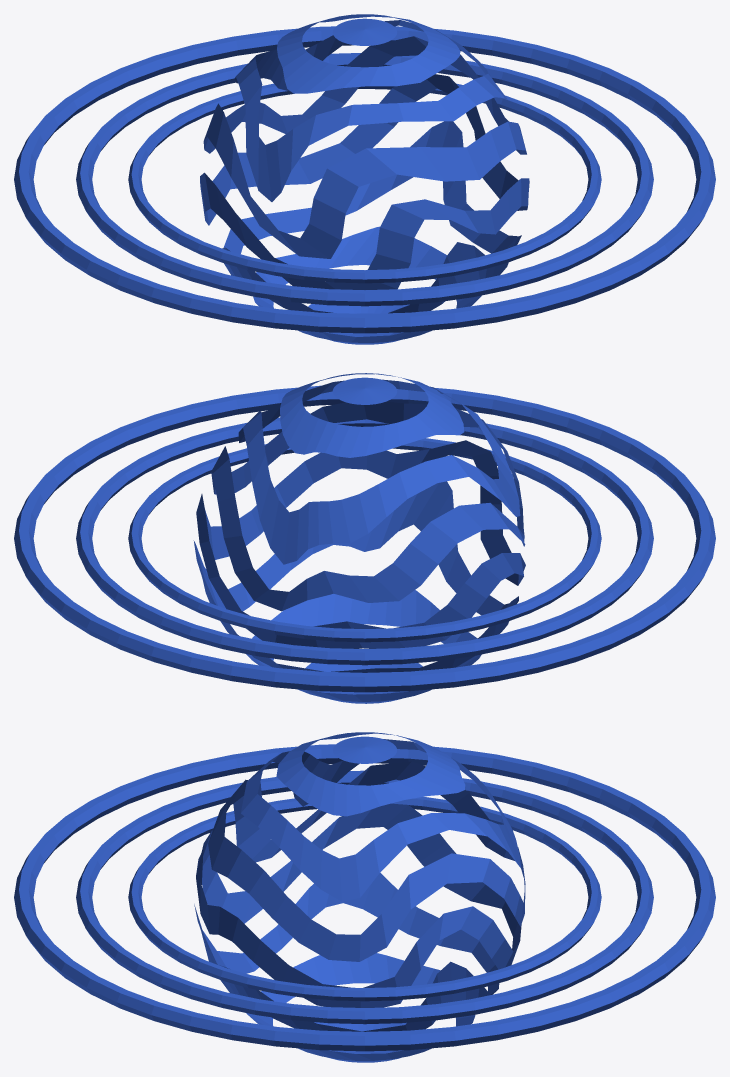
The model's file is Abstract Sphere Blue.fbx.
3 views of the same model, one above another, from view 1: azimuth 30°, elevation 25°; view 2: azimuth 150°, elevation 25°; view 3: azimuth 270°, elevation 25° (orthographic).
Visible parts, largest first — view 1: Sphere.002, Torus.008, Torus.007, Torus.006; view 2: Sphere.002, Torus.008, Torus.007, Torus.006; view 3: Sphere.002, Torus.008, Torus.007, Torus.006.
Boxes of the visible parts, x1,y1,x2,y2 form: Sphere.002: (200,14,529,344); Torus.008: (14,26,715,333); Torus.007: (76,53,653,306); Torus.006: (128,83,601,283); Sphere.002: (193,373,525,703); Torus.008: (14,385,715,692); Torus.007: (76,417,653,665); Torus.006: (128,438,601,642); Sphere.002: (194,732,525,1062); Torus.008: (14,744,715,1051); Torus.007: (76,770,653,1024); Torus.006: (128,797,601,1001).
Bounding box in the file's own units: 424 × 200 × 424.
